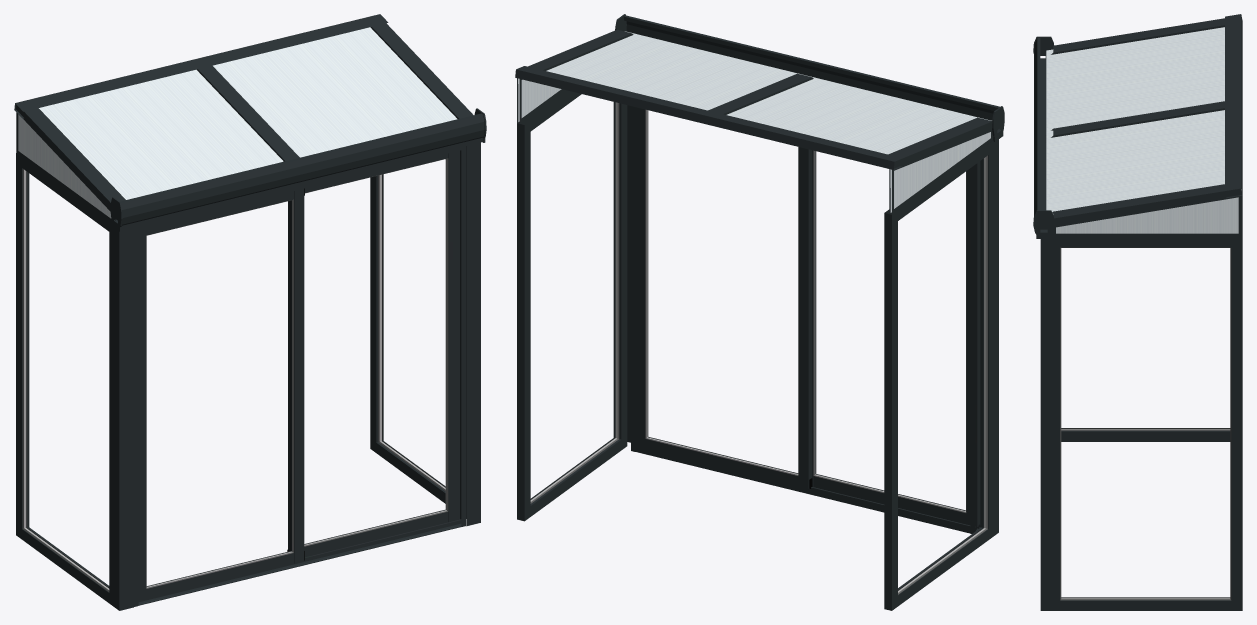
File: 13440_1pan.fbx
3 views of the same model, side by side, from view 1: azimuth 30°, elevation 25°; view 2: azimuth 150°, elevation 25°; view 3: azimuth 270°, elevation 25° (orthographic). The views are drawn at different scales.
Visible parts, largest first — view 1: priximbattable_net_sas_d_entree_13440_sas_d_entree_2_x_1m_to, folha1, folha2, frame; view 2: priximbattable_net_sas_d_entree_13440_sas_d_entree_2_x_1m_to, folha2, frame, folha1; view 3: priximbattable_net_sas_d_entree_13440_sas_d_entree_2_x_1m_to.
Part boxes in pixels (x1,y1,x2,y2): priximbattable_net_sas_d_entree_13440_sas_d_entree_2_x_1m_to: (14, 14, 486, 610); folha1: (138, 188, 304, 601); folha2: (287, 151, 457, 556); frame: (134, 146, 465, 606); priximbattable_net_sas_d_entree_13440_sas_d_entree_2_x_1m_to: (515, 14, 1004, 610); folha2: (636, 107, 812, 488); frame: (631, 106, 980, 533); folha1: (812, 150, 980, 526); priximbattable_net_sas_d_entree_13440_sas_d_entree_2_x_1m_to: (1033, 14, 1242, 610).
Size of the model in its own units: 200 by 227 by 102.
1 material, 1 textured.
